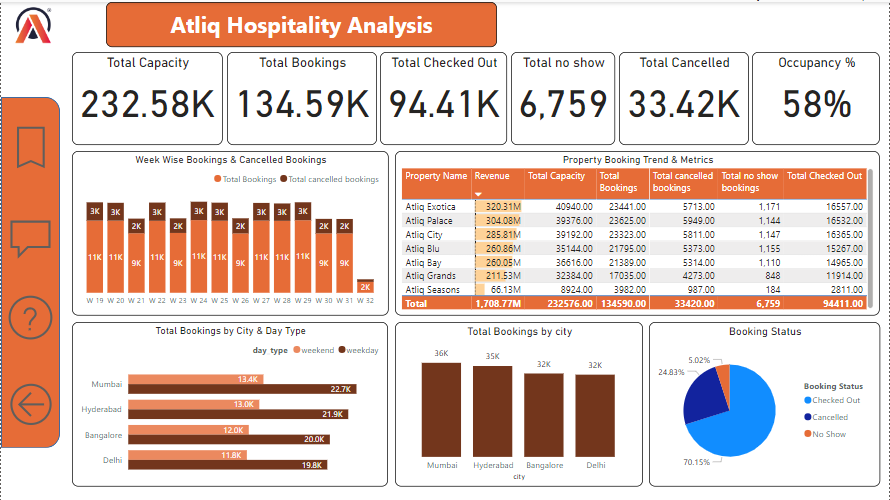

The page's visual inventory and layout, read from the dashboard file:
{"tool":"powerbi","page":{"name":"Page 2","canvas":[1280,720],"ordinal":1},"visuals":[{"type":"card","title":"Total Capacity","fields":{"Values":["key_measures.Total Capacity"]},"box":[101.7,71.9,216.7,134.4],"z":0},{"type":"card","title":"Total Checked Out","fields":{"Values":["key_measures.Total Checked Out"]},"box":[546.1,71.9,183.3,134.4],"z":1000},{"type":"card","title":"Total no show ","fields":{"Values":["key_measures.Total no show bookings"]},"box":[735,71.9,150,134.4],"z":2000},{"type":"card","title":"Occupancy %","fields":{"Values":["key_measures.Occupancy %"]},"box":[1081.7,71.9,184.4,134.4],"z":3000},{"type":"card","title":"Total Bookings","fields":{"Values":["key_measures.Total Bookings"]},"box":[325,71.9,215.6,134.4],"z":4000},{"type":"textbox","box":[151.2,0,563,64.8],"z":5000},{"type":"card","title":"Total Cancelled","fields":{"Values":["key_measures.Total cancelled bookings"]},"box":[889.5,71.9,186.7,134.4],"z":6000},{"type":"columnChart","title":"Week Wise Bookings & Cancelled Bookings ","fields":{"Category":["dim_date.week no"],"Y":["key_measures.Total Bookings","key_measures.Total cancelled bookings"]},"box":[101.7,214.3,455.7,237.1],"z":7000},{"type":"tableEx","title":"Property Booking Trend & Metrics","fields":{"Values":["dim_hotels.property_name","key_measures.Revenue","key_measures.Total Capacity","key_measures.Total Bookings","key_measures.Total cancelled bookings","key_measures.Total no show bookings","key_measures.Total Checked Out"]},"box":[567.9,214.5,697.9,237.2],"z":8000},{"type":"clusteredBarChart","title":"Total Bookings by City & Day Type","fields":{"Category":["dim_hotels.city"],"Series":["dim_date.day_type"],"Y":["key_measures.Total Bookings"]},"box":[101.9,461.3,455.3,237.2],"z":9000},{"type":"clusteredColumnChart","fields":{"Category":["dim_hotels.city"],"Y":["key_measures.Total Bookings"]},"box":[567.9,461.3,357.4,237.2],"z":10000},{"type":"pieChart","title":"Booking Status","fields":{"Category":["fact_bookings.booking_status"],"Y":["CountNonNull(fact_bookings.booking_status)"]},"box":[932.7,461.3,333,237.2],"z":11000},{"type":"shape","box":[0,136.8,85,505.4],"z":12000},{"type":"actionButton","box":[5.8,540,74.9,79.2],"z":13000},{"type":"actionButton","box":[2.9,411.8,79.2,85],"z":14000},{"type":"actionButton","box":[5.8,157,74.9,105.1],"z":15000},{"type":"actionButton","box":[7.2,293.8,70.6,96.5],"z":16000},{"type":"image","box":[0,1.5,93.8,63.1],"z":17000}]}

Visuals, with their boxes in screenshot pixels (x1, y1, x2, y2), scaled from the page's 1280x720 canvas onto the 890x500 screenshot:
"Total Capacity" card: rect(71, 50, 221, 143)
"Total Checked Out" card: rect(380, 50, 507, 143)
"Total no show " card: rect(511, 50, 615, 143)
"Occupancy %" card: rect(752, 50, 880, 143)
"Total Bookings" card: rect(226, 50, 376, 143)
textbox: rect(105, 0, 497, 45)
"Total Cancelled" card: rect(618, 50, 748, 143)
"Week Wise Bookings & Cancelled Bookings " columnChart: rect(71, 149, 388, 313)
"Property Booking Trend & Metrics" tableEx: rect(395, 149, 880, 314)
"Total Bookings by City & Day Type" clusteredBarChart: rect(71, 320, 387, 485)
clusteredColumnChart - dim_hotels.city x key_measures.Total Bookings: rect(395, 320, 643, 485)
"Booking Status" pieChart: rect(649, 320, 880, 485)
shape: rect(0, 95, 59, 446)
actionButton: rect(4, 375, 56, 430)
actionButton: rect(2, 286, 57, 345)
actionButton: rect(4, 109, 56, 182)
actionButton: rect(5, 204, 54, 271)
image: rect(0, 1, 65, 45)
